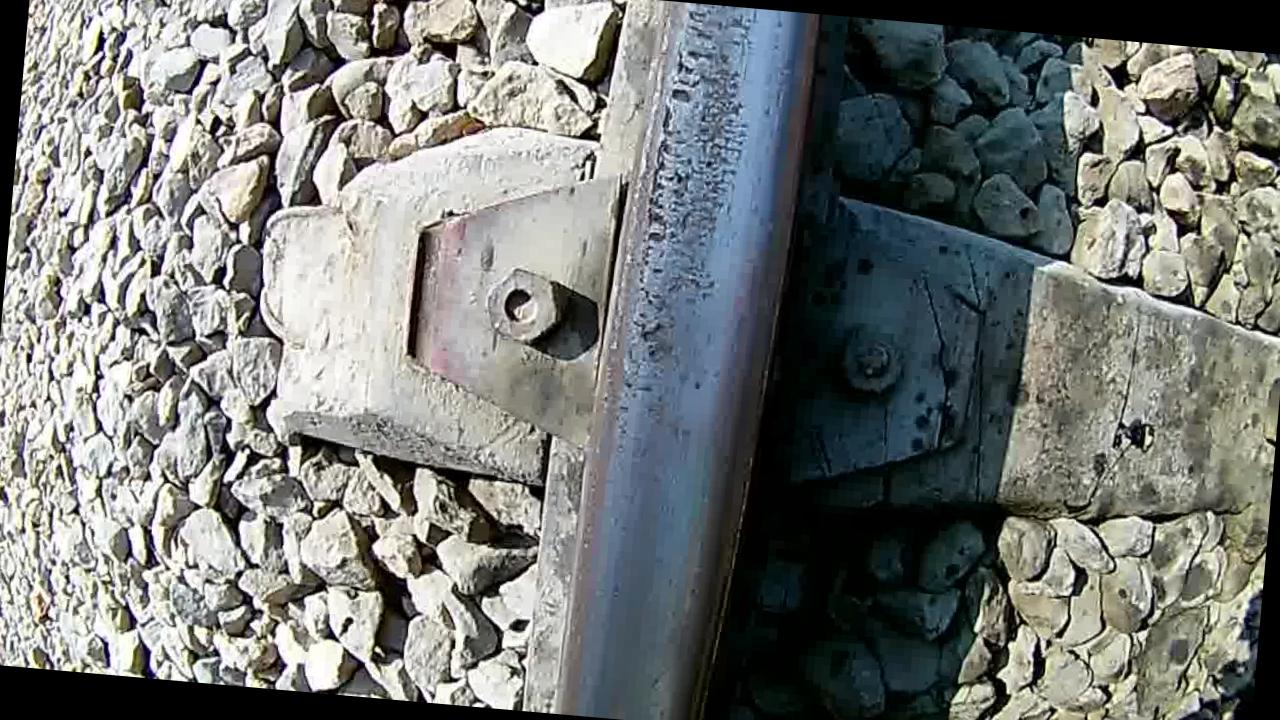crack: (585, 0, 811, 720)
